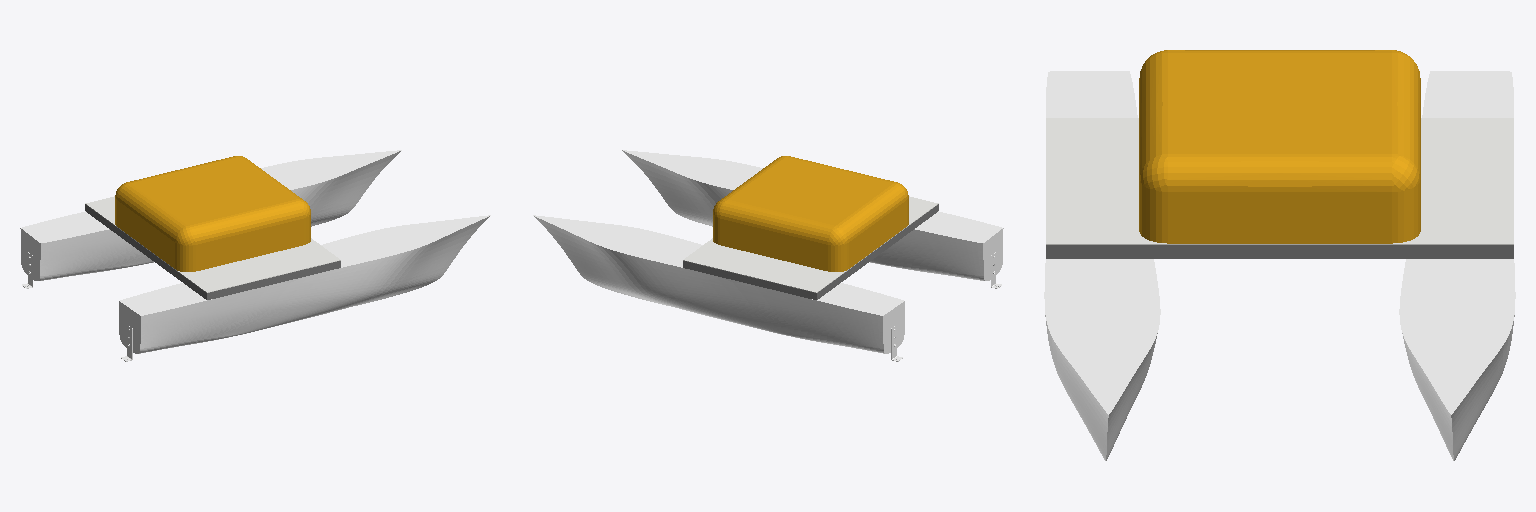
The robot description file, URDF, robot "aidboat":
<?xml version="1.0"?>
<robot name="aidboat">

<link name="dummy">
   </link>
<link name="base_link">
    <inertial>
        <mass value="9.7"/>
        <inertia ixx="0.3268889088" ixy="0" ixz="0" iyy="0.1452968093" iyz="0" izz="0.1452968093"/>
    </inertial>

    <collision>
        <origin xyz="0 0 0.1255" rpy="0 0 0"/>
        <geometry>
            <box size="0.73 1.15 0.251"/>
        </geometry>
    </collision>

    <visual>
    <origin rpy="0 0 0" xyz="0 0 0"/>
    <geometry>
        <mesh filename="package://aidboat_description/meshes/Base.dae"/>
    </geometry>
    </visual>
</link>

<joint name="dummy_joint" type="fixed">
    <parent link="dummy"/>
    <child link="base_link"/>
</joint>

<joint name="base_to_hull1" type="fixed">
    <parent link="base_link"/>
    <child link="hull1_link"/>
    <origin xyz="0.172098 0.447 0" rpy="0 0 0"/>
</joint>

<link name="hull1_link">
    <inertial>
        <mass value="19.4"/>
        <inertia ixx="0.07803639653" ixy="0" ixz="0" iyy="2.168007709" iyz="0" izz="2.168007709"/>
    </inertial>

    <collision>
        <origin xyz="0.1019 0 -0.146" rpy="0 0 -0.0244346"/>
        <geometry>
            <box size="2.002 0.286 0.292"/>
        </geometry>
    </collision>

    <visual>
    <origin rpy="0 0 -0.0244346" xyz="0 0 0"/>
    <geometry>
        <mesh filename="package://aidboat_description/meshes/Hull.dae"/>
    </geometry>
    </visual>
</link>

<joint name="base_to_hull2" type="fixed">
    <parent link="base_link"/>
    <child link="hull2_link"/>
    <origin xyz="0.172098 -0.447 0" rpy="0 0 0"/>
</joint>

<link name="hull2_link">
    <inertial>
        <mass value="19.4"/>
        <inertia ixx="0.07803639653" ixy="0" ixz="0" iyy="2.168007709" iyz="0" izz="2.168007709"/>
    </inertial>

    <collision>
        <origin xyz="0.1019 0 -0.146" rpy="0 0 0.0244346"/>
        <geometry>
            <box size="2.002 0.286 0.292"/>
        </geometry>
    </collision>

    <visual>
    <origin rpy="0 0 0.0244346" xyz="0 0 0"/>
    <geometry>
        <mesh filename="package://aidboat_description/meshes/Hull.dae"/>
    </geometry>
    </visual>
</link>

</robot>

--- Facts derived from the render (not from the file) ---
Views: 3 orthographic renders of the robot side by side, from view 1: azimuth 30°, elevation 25°; view 2: azimuth 150°, elevation 25°; view 3: azimuth 270°, elevation 25°.
Model aidboat with 4 links and 3 joints (3 fixed), rooted at dummy, posed all joints at 0.
Visible links, largest first — view 1: base_link, hull2_link, hull1_link; view 2: base_link, hull1_link, hull2_link; view 3: base_link, hull1_link, hull2_link.
Link boxes in pixels (x1,y1,x2,y2): base_link: [85, 156, 340, 299]; hull2_link: [119, 215, 490, 361]; hull1_link: [20, 150, 401, 288]; base_link: [683, 156, 938, 299]; hull1_link: [533, 215, 904, 361]; hull2_link: [622, 150, 1003, 288]; base_link: [1046, 50, 1513, 258]; hull1_link: [1399, 71, 1515, 460]; hull2_link: [1044, 71, 1160, 460].
Size in the robot's own frame: 2.04 by 1.16 by 0.5432 metres.
Meshes: 2 distinct files referenced, 3 mesh visuals loaded (2 Collada DAE).